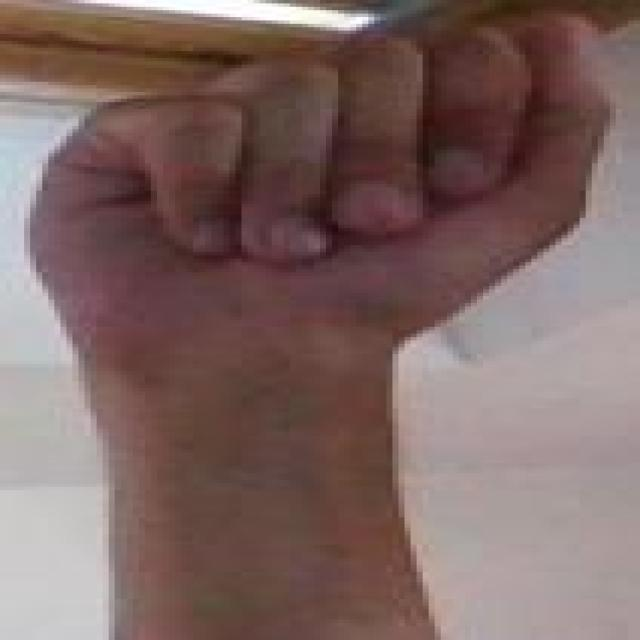A: (9, 3, 640, 330)
